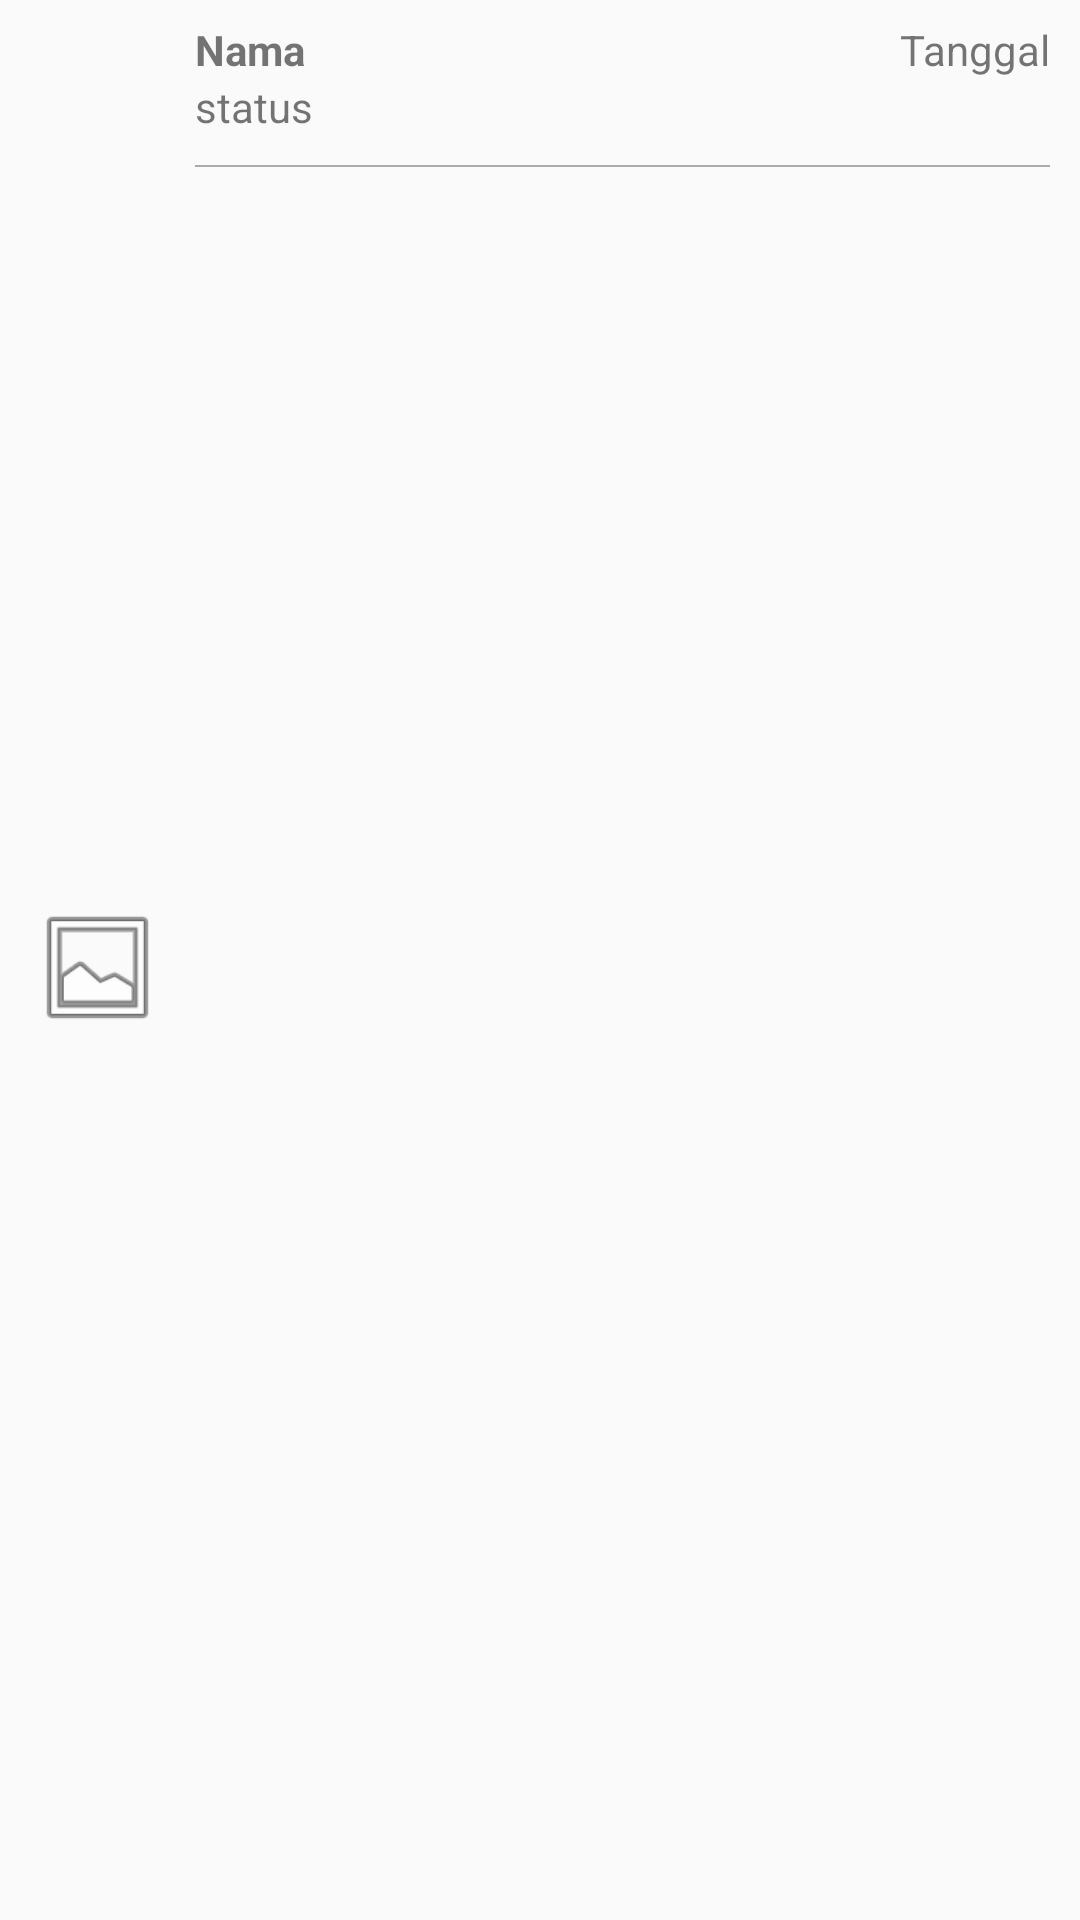

Icons on this 1080px×1920px Android screen, each with the point to tap as (x,y):
gallery: (97,967)
